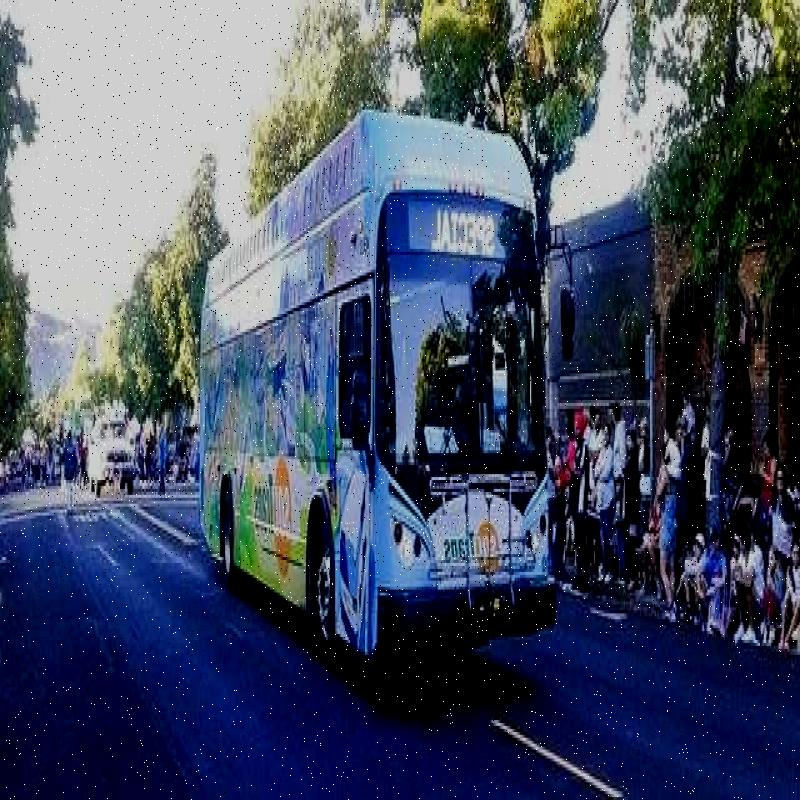bus: (174, 69, 565, 685)
